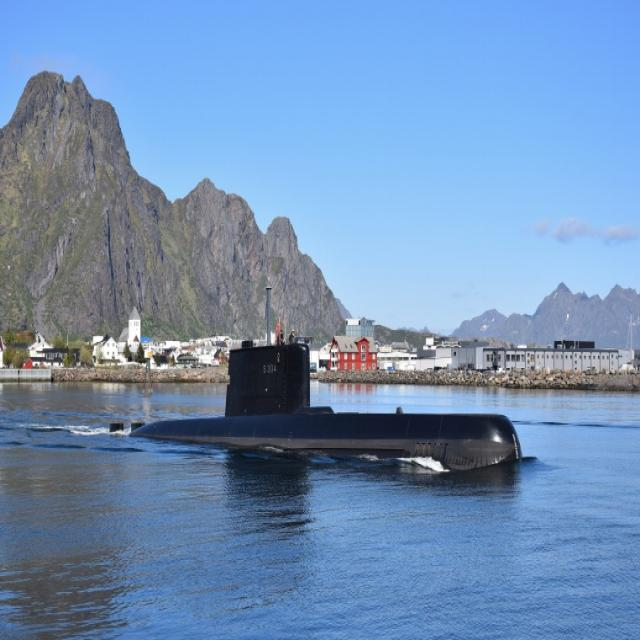submarine: (109, 283, 530, 472)
